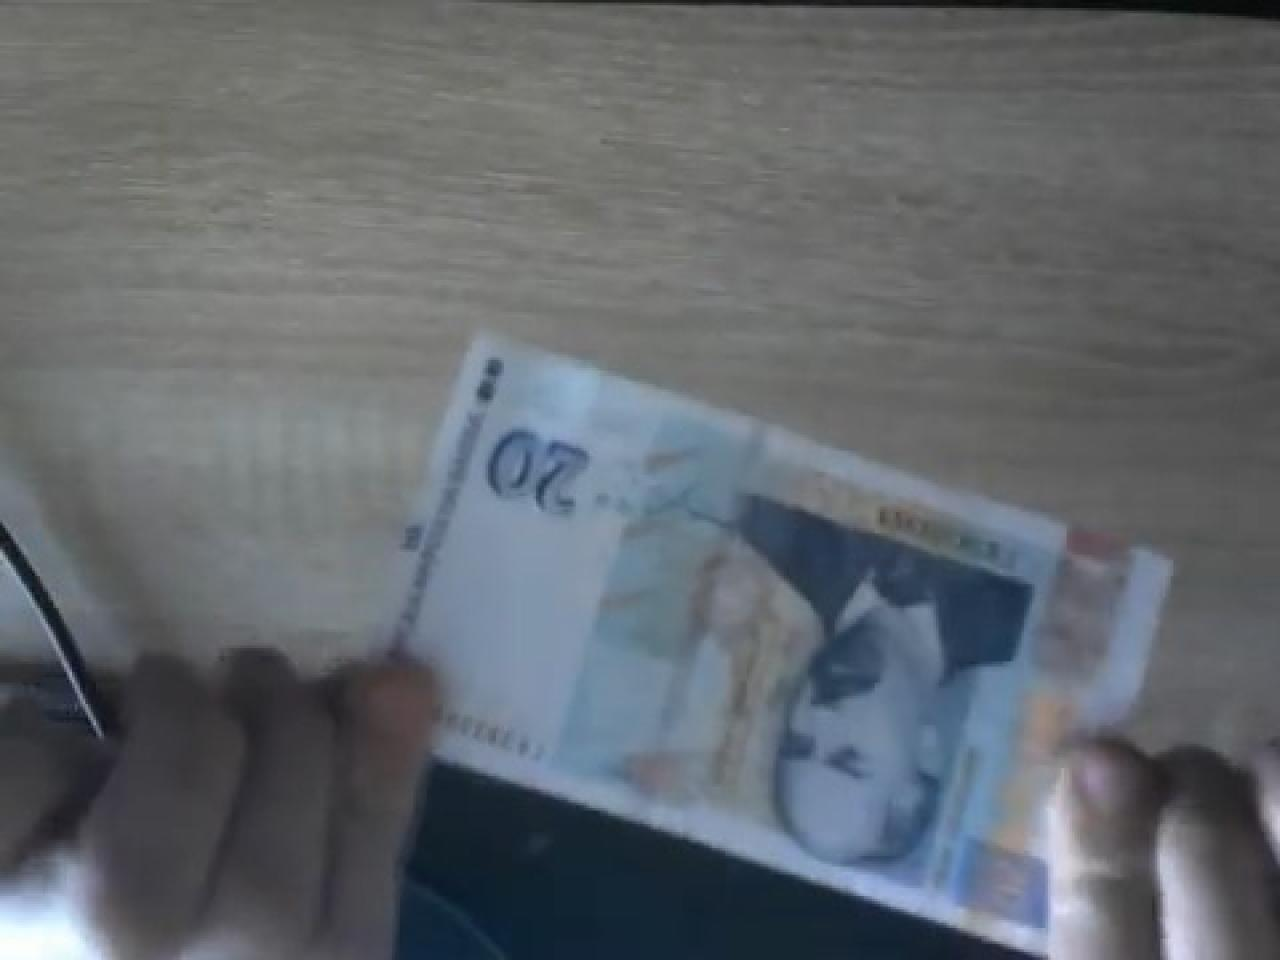20leva: (381, 326, 1131, 949)
